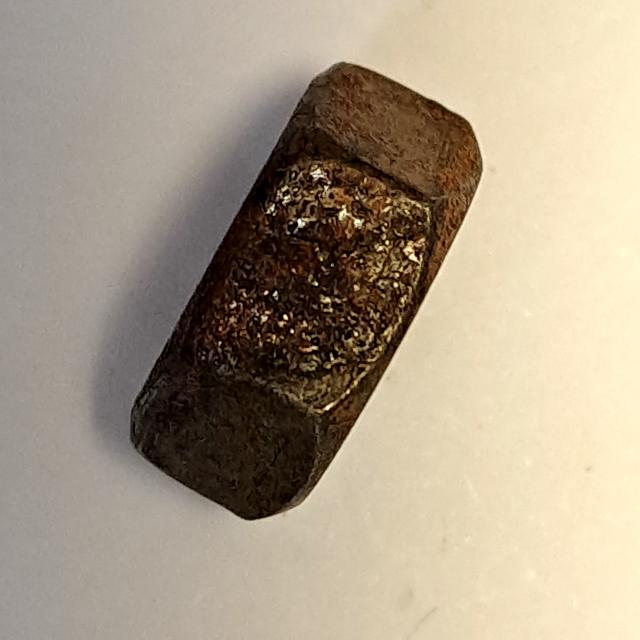Side_Rust: (111, 42, 505, 533)
